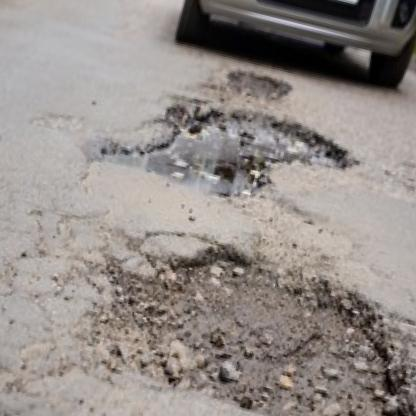pothole: (81, 221, 416, 416), (84, 72, 365, 225), (220, 64, 297, 108)
